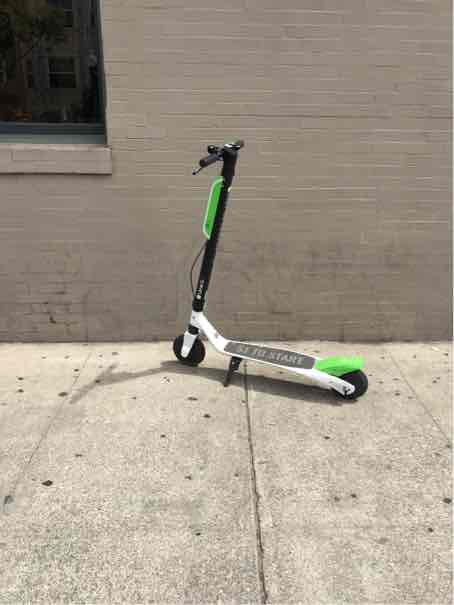scooter: (158, 124, 390, 399)
